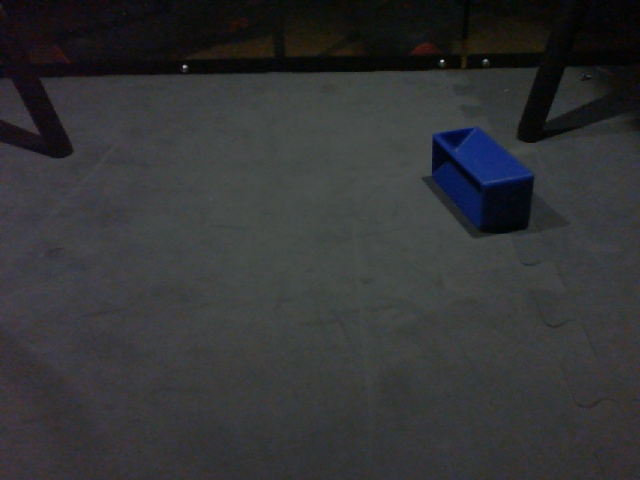BlueSample: (431, 125, 535, 233)
